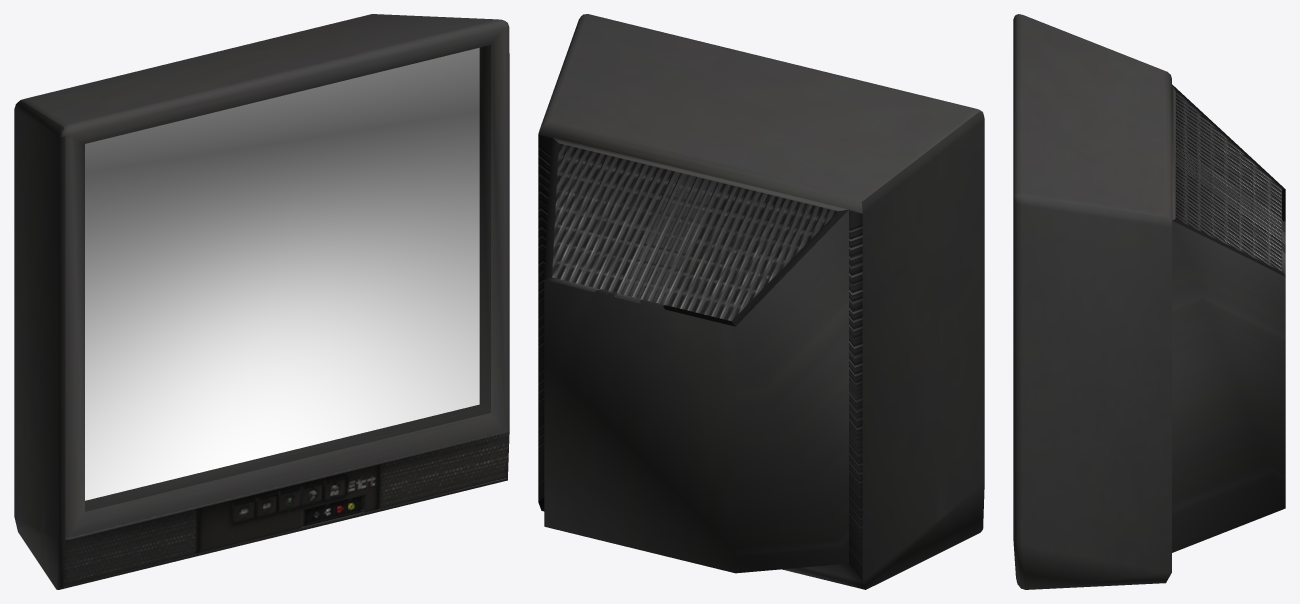
3 renders of one model, left to right at view 1: azimuth 30°, elevation 25°; view 2: azimuth 150°, elevation 25°; view 3: azimuth 270°, elevation 25°, orthographic. The views are drawn at different scales.
Visible parts, largest first — view 1: TV-model; view 2: TV-model; view 3: TV-model.
Boxes of the visible parts, x1,y1,x2,y2 form: TV-model: (14, 14, 509, 589); TV-model: (538, 14, 984, 589); TV-model: (1013, 14, 1285, 589).
Size of the model in its own units: 1.98 by 2.01 by 1.23.
Materials: 2 (1 with a texture image).
